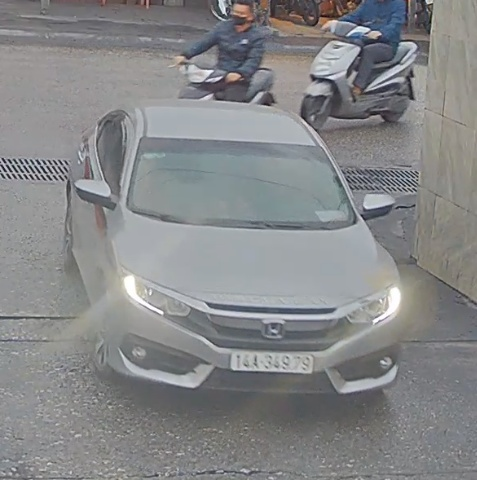vehicle plate: (228, 347, 318, 376)
